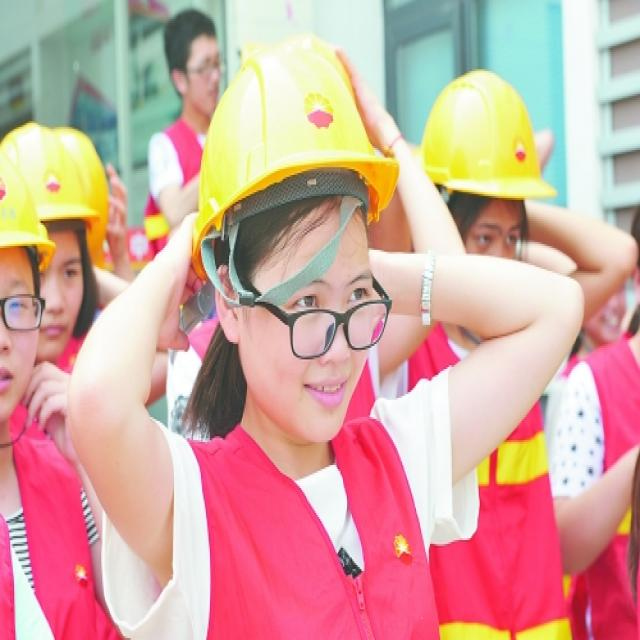Reflective-Jacket: (426, 275, 574, 634)
Safety-Helmet: (190, 29, 396, 250), (413, 64, 557, 210), (0, 113, 116, 249), (0, 144, 54, 263)
